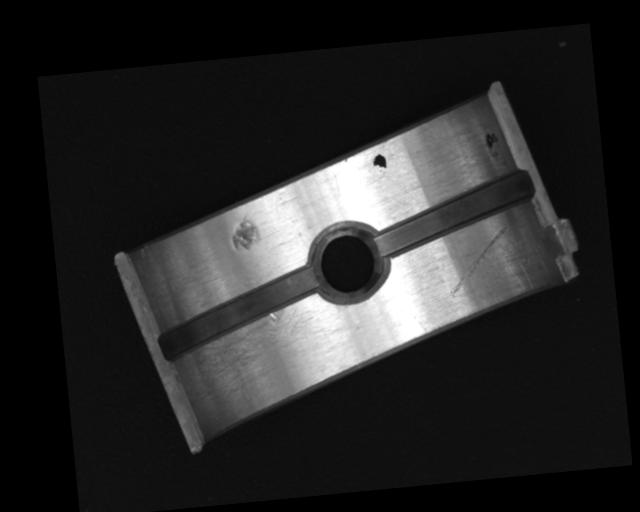blot: (483, 130, 501, 159), (372, 152, 389, 176)
bruise: (229, 211, 263, 252)
gap: (153, 264, 324, 362), (369, 169, 540, 259)
hole: (308, 219, 387, 305)
nick: (444, 226, 513, 299)
scratch: (178, 299, 319, 403)
